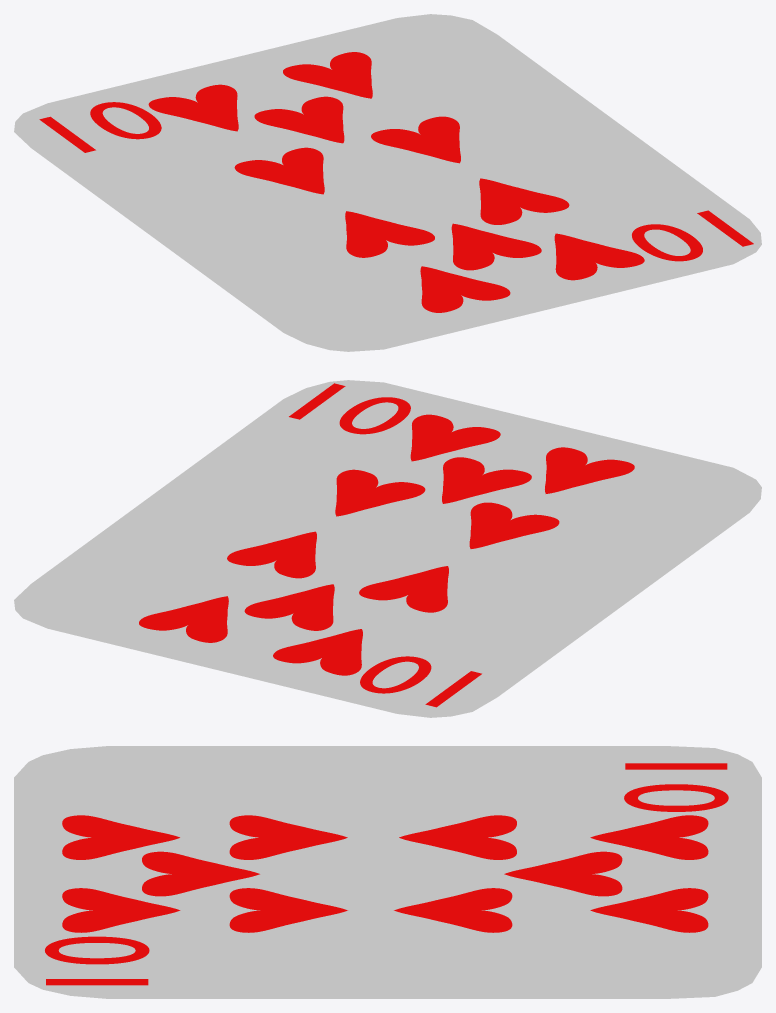
3 views of the same model, one above another, from view 1: azimuth 30°, elevation 25°; view 2: azimuth 150°, elevation 25°; view 3: azimuth 270°, elevation 25° (orthographic). The views are drawn at different scales.
Visible parts, largest first — view 1: 10ofHearts, Plane.069_Red, Plane.063_Red, Plane.064_Red, Plane.070_Red, Plane.062_Red, Plane.067_Red, Plane.072_Red, Plane.071_Red, Plane.073_Red, Plane.068_Red, Font.025_Bla_Blac.002 (+1 smaller); view 2: 10ofHearts, Plane.062_Red, Plane.063_Red, Plane.064_Red, Plane.071_Red, Plane.067_Red, Plane.068_Red, Plane.069_Red, Plane.072_Red, Plane.073_Red, Plane.070_Red, Font.024_Bla_Blac.002 (+1 smaller); view 3: 10ofHearts, Plane.064_Red, Plane.073_Red, Plane.063_Red, Plane.067_Red, Plane.071_Red, Plane.072_Red, Plane.062_Red, Plane.070_Red, Plane.068_Red, Plane.069_Red, Font.024_Bla_Blac.002 (+1 smaller).
Boxes of the visible parts, x1,y1,x2,y2 form: 10ofHearts: [14, 14, 761, 351]; Plane.069_Red: [420, 266, 510, 312]; Plane.063_Red: [345, 211, 434, 257]; Plane.064_Red: [254, 96, 344, 143]; Plane.070_Red: [554, 233, 644, 280]; Plane.062_Red: [479, 178, 569, 224]; Plane.067_Red: [148, 84, 238, 131]; Plane.072_Red: [234, 147, 324, 194]; Plane.071_Red: [371, 116, 460, 163]; Plane.073_Red: [451, 223, 541, 270]; Plane.068_Red: [283, 52, 372, 98]; Font.025_Bla_Blac.002: [632, 210, 753, 261]; 10ofHearts: [14, 380, 761, 717]; Plane.062_Red: [335, 469, 425, 516]; Plane.063_Red: [469, 502, 559, 548]; Plane.064_Red: [244, 584, 334, 630]; Plane.071_Red: [227, 531, 316, 578]; Plane.067_Red: [273, 629, 362, 675]; Plane.068_Red: [139, 596, 228, 642]; Plane.069_Red: [545, 447, 634, 493]; Plane.072_Red: [359, 566, 448, 612]; Plane.073_Red: [442, 457, 531, 503]; Plane.070_Red: [410, 414, 500, 461]; Font.024_Bla_Blac.002: [360, 656, 481, 707]; 10ofHearts: [14, 746, 761, 998]; Plane.064_Red: [504, 851, 622, 896]; Plane.073_Red: [142, 851, 259, 896]; Plane.063_Red: [229, 815, 347, 859]; Plane.067_Red: [590, 815, 708, 859]; Plane.071_Red: [394, 888, 512, 932]; Plane.072_Red: [399, 815, 516, 859]; Plane.062_Red: [229, 888, 347, 932]; Plane.070_Red: [62, 888, 180, 932]; Plane.068_Red: [590, 888, 708, 932]; Plane.069_Red: [62, 815, 179, 859]; Font.024_Bla_Blac.002: [624, 763, 728, 811].
Size of the model in its own units: 1.6 by 0.00355 by 2.
